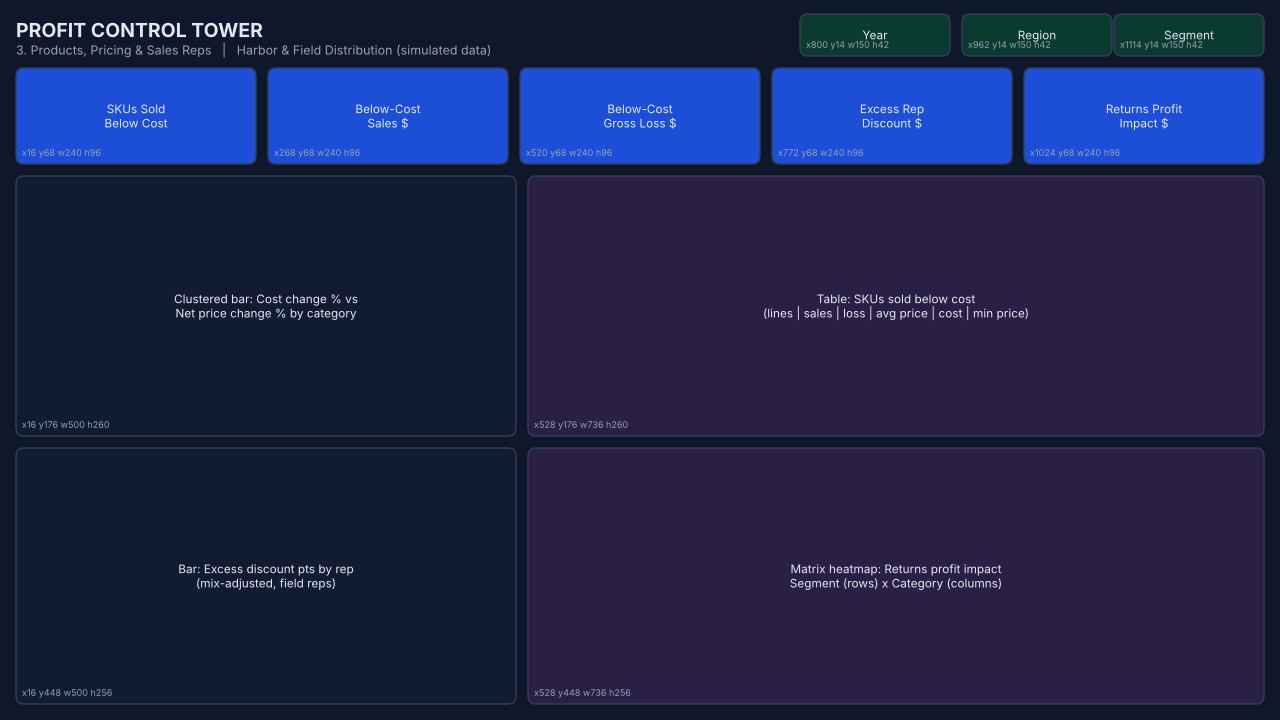

The dashboard page shown, as its layout file describes it:
{"tool":"powerbi","page":{"name":"Products & Reps","canvas":[1280,720],"ordinal":2},"visuals":[{"type":"shape","box":[15.8,5.7,1248.3,91.8],"z":0,"group":"g1"},{"type":"shape","title":"Pocket Margin by Segment","box":[14.3,103.3,1252.6,120.5],"z":0},{"type":"cardVisual","fields":{"Data":["_Measures.SKUs Sold Below Cost","_Measures.Below-Cost Sales","_Measures.Below-Cost Gross Loss","_Measures.Excess Discount (Generous Reps)","_Measures.Returns Profit Impact"]},"box":[21.5,124.8,1248,98.8],"z":1000},{"type":"group","id":"g1","title":"Group 1","box":[15.8,5.7,1248.3,91.8],"z":2000},{"type":"textbox","box":[27.2,19.8,520.8,30.1],"z":2000,"group":"g1"},{"type":"cardVisual","fields":{"Data":["_Measures.Report Subtitle"]},"box":[64.5,57.4,520,24],"z":3000,"group":"g1"},{"type":"shape","title":"Did Prices Keep Up With Supplier Costs?","box":[16,228,616,270],"z":3000},{"type":"slicer","fields":{"Values":["dim_date.date.Variation.Date Hierarchy.Year"]},"box":[885.3,61.7,110.5,31.6],"z":4000,"group":"g1"},{"type":"tableEx","title":"Did Prices Keep Up With Supplier Costs?","fields":{"Values":["dim_product.category","_Measures.SVG Cost vs Price","_Measures.Price minus Cost pts","_Measures.Cost Change %"]},"box":[15.8,235.3,624.1,235.3],"z":4000},{"type":"pageNavigator","box":[587.6,16.3,667.2,37.3],"z":5000,"group":"g1"},{"type":"textbox","box":[31.6,466.3,575.4,23],"z":5000},{"type":"slicer","fields":{"Values":["dim_customer.region"]},"box":[995.8,61.7,119.1,31.6],"z":6000,"group":"g1"},{"type":"shape","title":"Discount vs Peers Selling to the Same Segments","box":[642,228.1,620,270],"z":6000},{"type":"slicer","fields":{"Values":["dim_customer.segment"]},"box":[1114.9,61.7,140,32],"z":7000,"group":"g1"},{"type":"tableEx","title":"Discount vs Peers Selling to the Same Segments","fields":{"Values":["dim_rep.rep_name","_Measures.SVG Rep Bar","_Measures.Excess Discount pts","_Measures.SVG Rep Pill"]},"box":[652.9,234.9,620,262.5],"z":7000},{"type":"textbox","box":[592.6,71.7,292.6,22.2],"z":8000,"group":"g1"},{"type":"tableEx","title":"SKUs Sold Below Cost","fields":{"Values":["dim_product.sku","dim_product.product_name","dim_product.category","_Measures.Below-Cost Lines","_Measures.Below-Cost Sales","_Measures.Below-Cost Gross Loss","_Measures.Avg Net Price","_Measures.Min Price (8% GM)"]},"box":[15.8,503.6,688.7,212.4],"z":8000},{"type":"shape","title":"Returns Profit Impact by Category","box":[713.1,503.6,548.1,212.4],"z":9000},{"type":"tableEx","fields":{"Values":["_Measures.SVG Returns Bar","dim_product.category","_Measures.Returns Rank"]},"box":[714,504,288,212],"z":10000},{"type":"tableEx","fields":{"Values":["_Measures.SVG Returns Bar","dim_product.category","_Measures.Returns Rank"]},"box":[982.9,503.4,287,216.6],"z":11000}]}

Visuals, with their boxes in screenshot pixels (x1, y1, x2, y2), scaled from the page's 1280x720 canvas onto the 1280x720 screenshot:
shape: <region>16, 6, 1264, 98</region>
"Pocket Margin by Segment" shape: <region>14, 103, 1267, 224</region>
cardVisual - _Measures.SKUs Sold Below Cost x _Measures.Below-Cost Sales: <region>22, 125, 1270, 224</region>
"Group 1" group: <region>16, 6, 1264, 98</region>
textbox: <region>27, 20, 548, 50</region>
cardVisual - _Measures.Report Subtitle: <region>64, 57, 584, 81</region>
"Did Prices Keep Up With Supplier Costs?" shape: <region>16, 228, 632, 498</region>
slicer - dim_date.date.Variation.Date Hierarchy.Year: <region>885, 62, 996, 93</region>
"Did Prices Keep Up With Supplier Costs?" tableEx: <region>16, 235, 640, 471</region>
pageNavigator: <region>588, 16, 1255, 54</region>
textbox: <region>32, 466, 607, 489</region>
slicer - dim_customer.region: <region>996, 62, 1115, 93</region>
"Discount vs Peers Selling to the Same Segments" shape: <region>642, 228, 1262, 498</region>
slicer - dim_customer.segment: <region>1115, 62, 1255, 94</region>
"Discount vs Peers Selling to the Same Segments" tableEx: <region>653, 235, 1273, 497</region>
textbox: <region>593, 72, 885, 94</region>
"SKUs Sold Below Cost" tableEx: <region>16, 504, 704, 716</region>
"Returns Profit Impact by Category" shape: <region>713, 504, 1261, 716</region>
tableEx - _Measures.SVG Returns Bar x dim_product.category: <region>714, 504, 1002, 716</region>
tableEx - _Measures.SVG Returns Bar x dim_product.category: <region>983, 503, 1270, 719</region>
